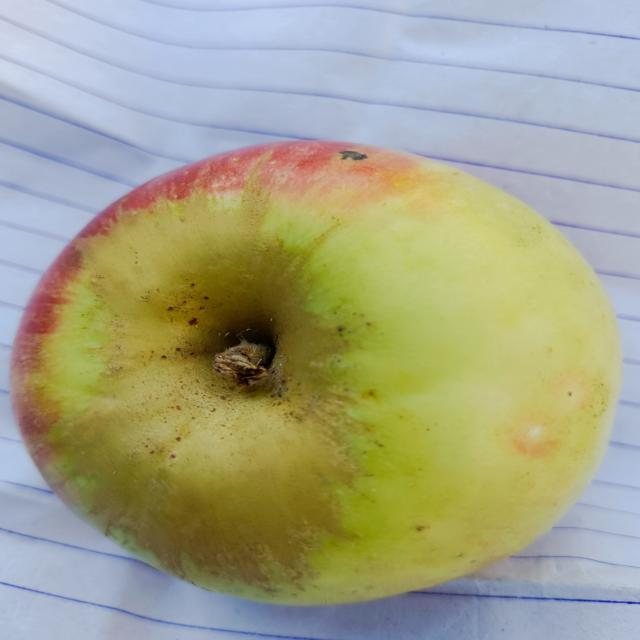Rotten: (2, 134, 622, 608)
